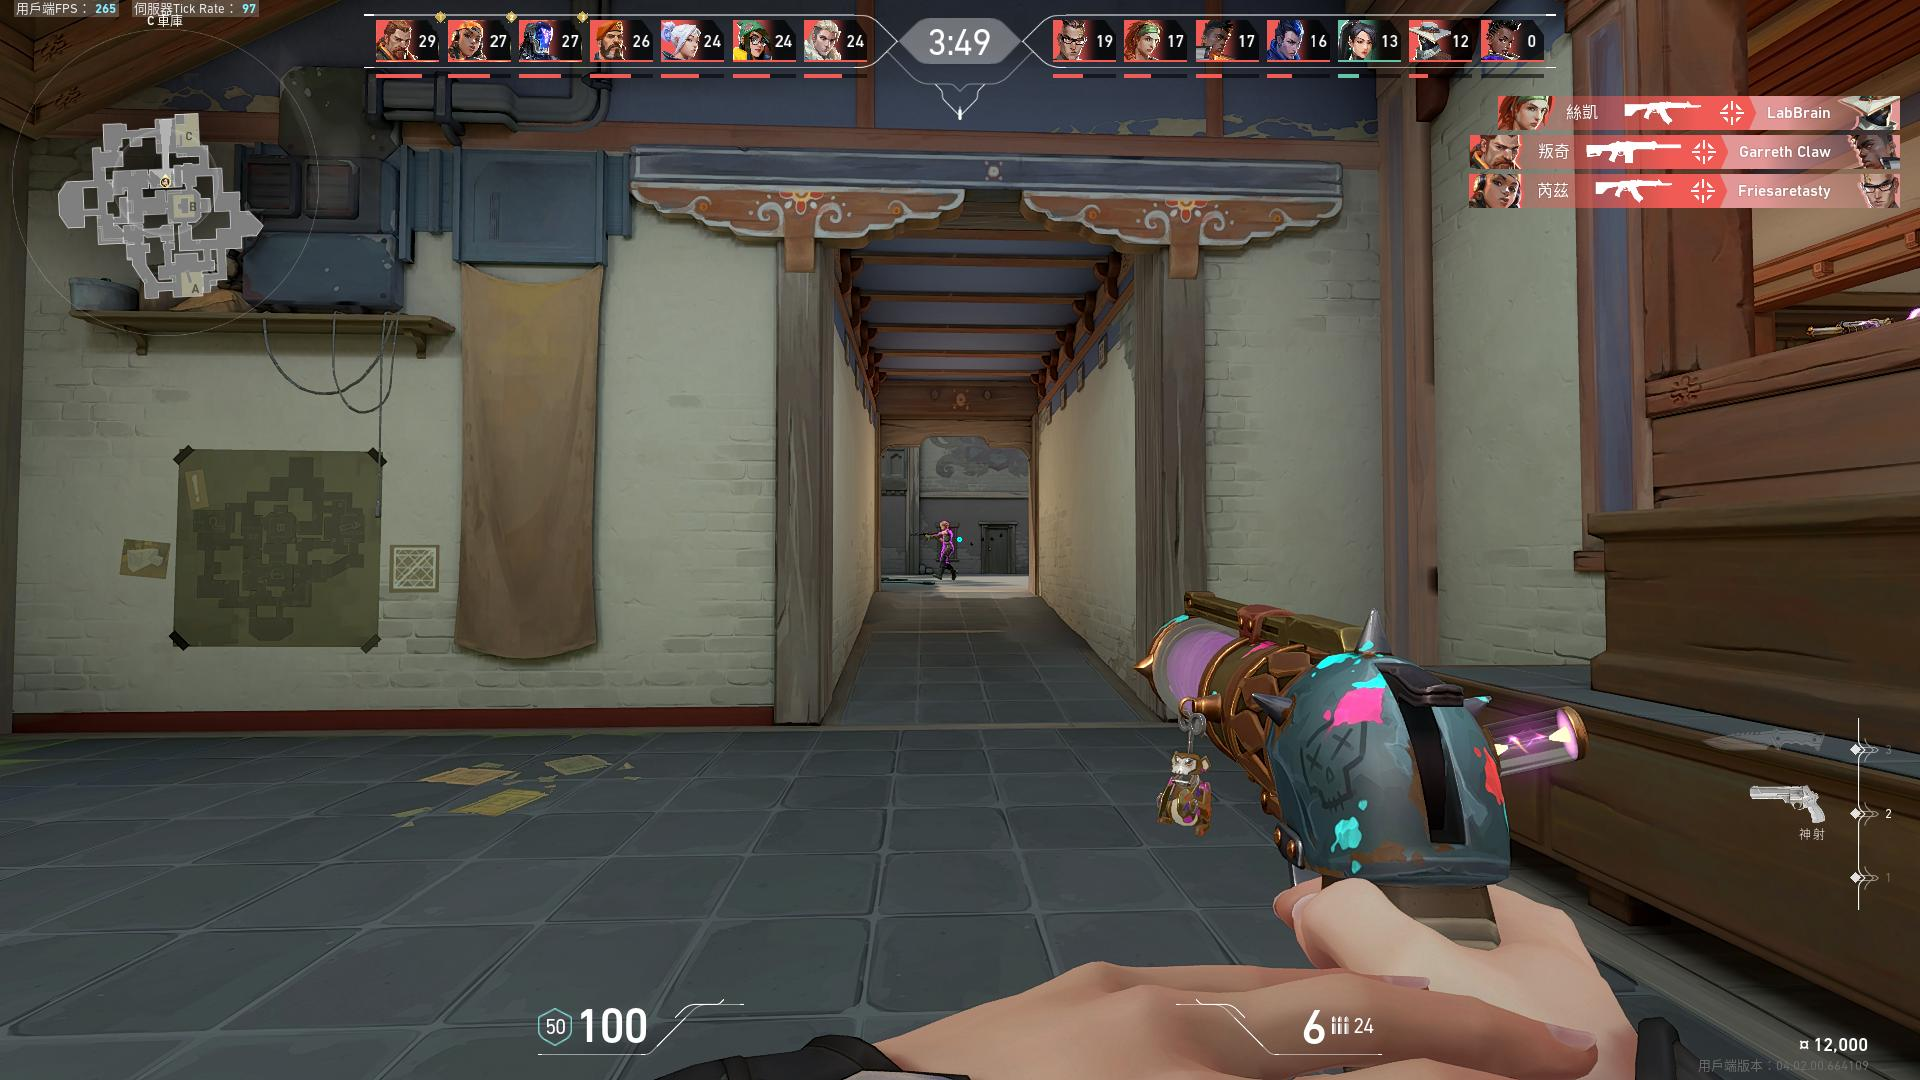enemyBody: (944, 531, 952, 543)
enemyHead: (942, 522, 948, 530)
